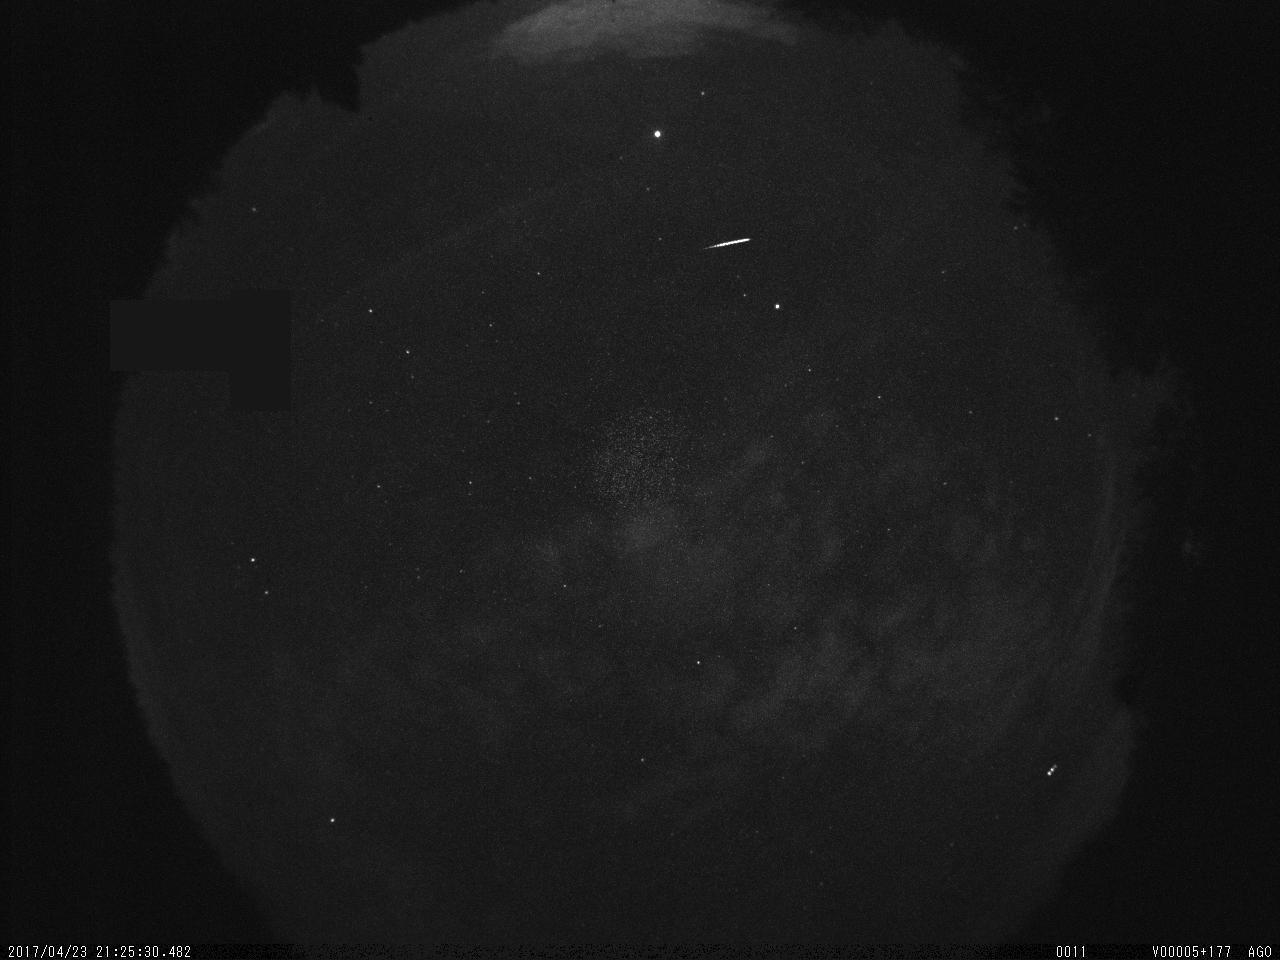meteor: (693, 222, 759, 263)
